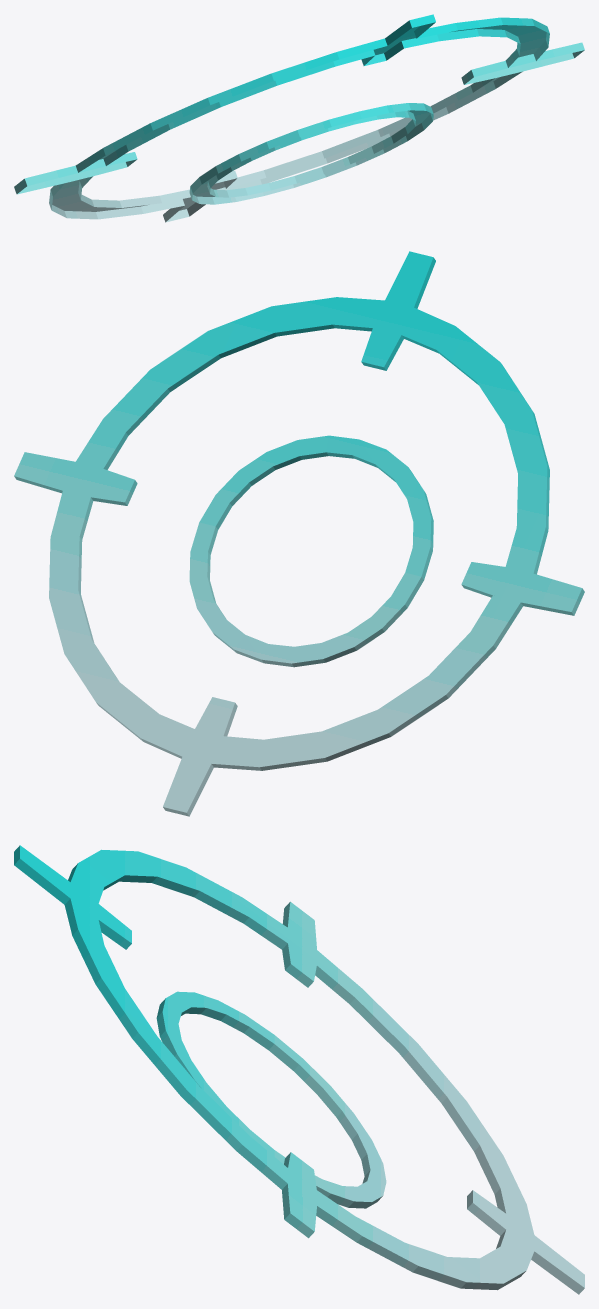
File: Shiroko_Original_Halo.fbx
The picture shows the model from 3 angles, top to bottom: view 1: azimuth 30°, elevation 25°; view 2: azimuth 150°, elevation 25°; view 3: azimuth 270°, elevation 25°; orthographic projection. The views are drawn at different scales.
Parts seen in each view (by area): view 1: Shiroko_Original_Halo; view 2: Shiroko_Original_Halo; view 3: Shiroko_Original_Halo.
Part boxes in pixels (x1,y1,x2,y2): Shiroko_Original_Halo: (14, 14, 584, 222); Shiroko_Original_Halo: (14, 251, 584, 816); Shiroko_Original_Halo: (14, 845, 584, 1294).
Bounding box in the file's own units: 0.3195 × 0.2085 × 0.2474.
1 material, 1 textured.
